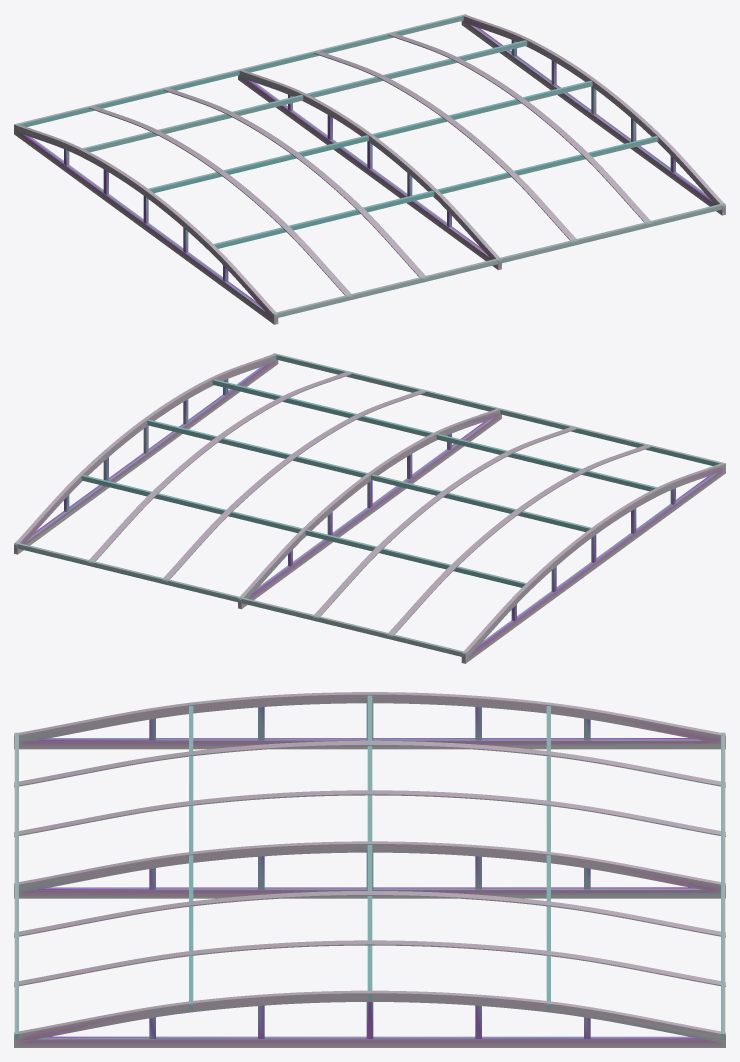
3 views of the same model, one above another, from view 1: azimuth 30°, elevation 25°; view 2: azimuth 150°, elevation 25°; view 3: azimuth 270°, elevation 25° (orthographic). The views are drawn at different scales.
Parts seen in each view (by area): view 1: bowed_chord.001, bowed_chord.002, bowed_chord, crossbar, crossbar.004, crossbar.001, crossbar.002, crossbar.003, bowed_chord.004, bowed_chord.005, bowed_chord.003, bowed_chord.006; view 2: bowed_chord.001, bowed_chord.002, bowed_chord, crossbar.004, crossbar, crossbar.003, crossbar.002, crossbar.001, bowed_chord.004, bowed_chord.005, bowed_chord.003, bowed_chord.006; view 3: bowed_chord.002, bowed_chord, bowed_chord.001, bowed_chord.005, bowed_chord.003, bowed_chord.004, bowed_chord.006, crossbar.002, crossbar, crossbar.004, crossbar.001, crossbar.003.
Part boxes in pixels (x1,y1,x2,y2): bowed_chord.001: (14, 124, 278, 324); bowed_chord.002: (461, 15, 725, 215); bowed_chord: (238, 70, 501, 270); crossbar: (273, 203, 725, 317); crossbar.004: (14, 14, 466, 126); crossbar.001: (213, 136, 658, 248); crossbar.002: (148, 80, 592, 193); crossbar.003: (83, 40, 527, 152); bowed_chord.004: (89, 106, 353, 298); bowed_chord.005: (163, 88, 427, 279); bowed_chord.003: (388, 33, 652, 224); bowed_chord.006: (314, 51, 578, 243); bowed_chord.001: (461, 463, 725, 663); bowed_chord.002: (14, 354, 278, 554); bowed_chord: (238, 409, 501, 609); crossbar.004: (14, 542, 466, 656); crossbar: (273, 353, 725, 465); crossbar.003: (81, 475, 526, 587); crossbar.002: (147, 419, 591, 532); crossbar.001: (212, 379, 656, 491); bowed_chord.004: (386, 445, 650, 637); bowed_chord.005: (312, 427, 576, 618); bowed_chord.003: (87, 372, 351, 563); bowed_chord.006: (161, 390, 425, 582); bowed_chord.002: (14, 990, 725, 1047); bowed_chord: (14, 841, 725, 898); bowed_chord.001: (14, 692, 725, 749); bowed_chord.005: (14, 790, 725, 836); bowed_chord.003: (14, 940, 725, 986); bowed_chord.004: (14, 740, 725, 787); bowed_chord.006: (14, 891, 725, 937); crossbar.002: (367, 695, 372, 1000); crossbar: (14, 732, 18, 1039); crossbar.004: (721, 732, 725, 1039); crossbar.001: (189, 706, 193, 1010); crossbar.003: (546, 706, 550, 1010).
Size of the model in its own units: 9.92 by 0.8404 by 9.91.
